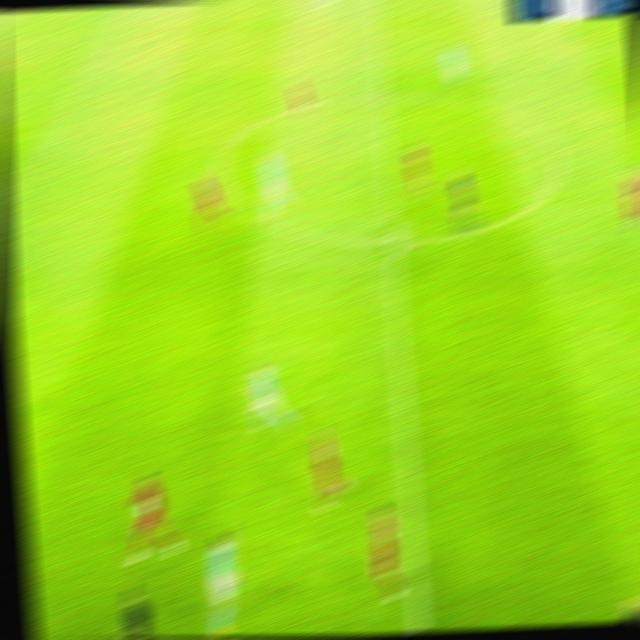halfcircle_bottom: (375, 224, 412, 259)
halfcircle_top: (364, 81, 403, 112)
